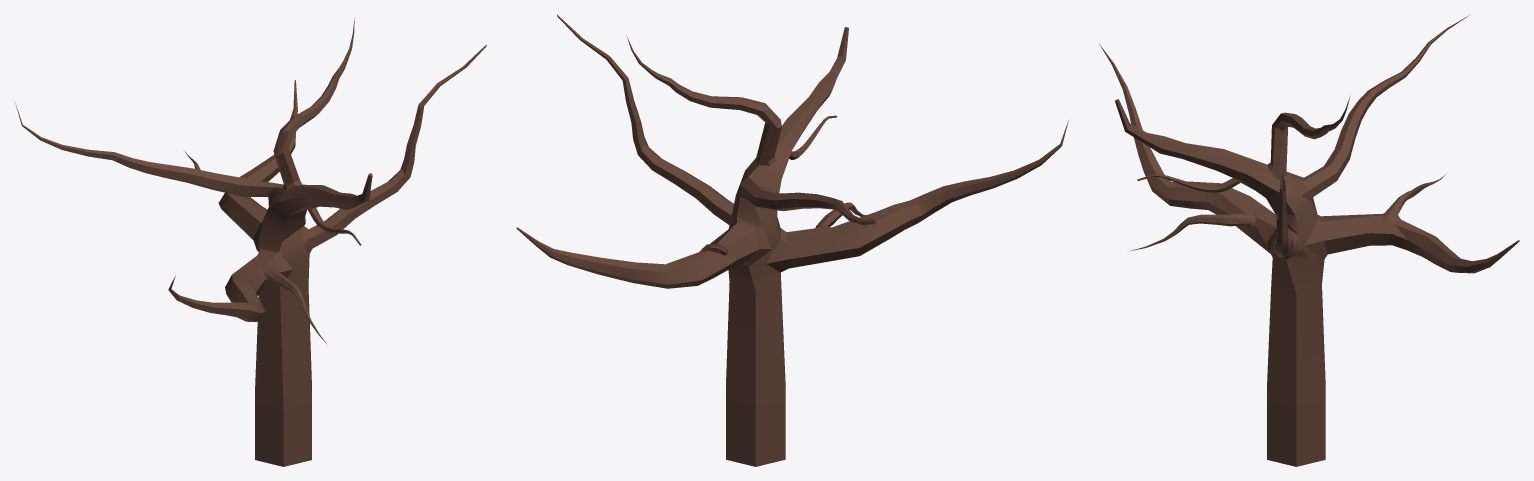
Rendered from Spooky_Tree_Scaled.fbx.
3 views of the same model, side by side, from view 1: azimuth 30°, elevation 25°; view 2: azimuth 150°, elevation 25°; view 3: azimuth 270°, elevation 25° (orthographic). The views are drawn at different scales.
Parts seen in each view (by area): view 1: pCylinder1; view 2: pCylinder1; view 3: pCylinder1.
Boxes of the visible parts, box(x1,y1,x2,y2) form: pCylinder1: box(15, 18, 486, 466); pCylinder1: box(516, 14, 1068, 466); pCylinder1: box(1099, 15, 1519, 466).
Bounding box in the file's own units: 0.3041 × 0.2871 × 0.269.
